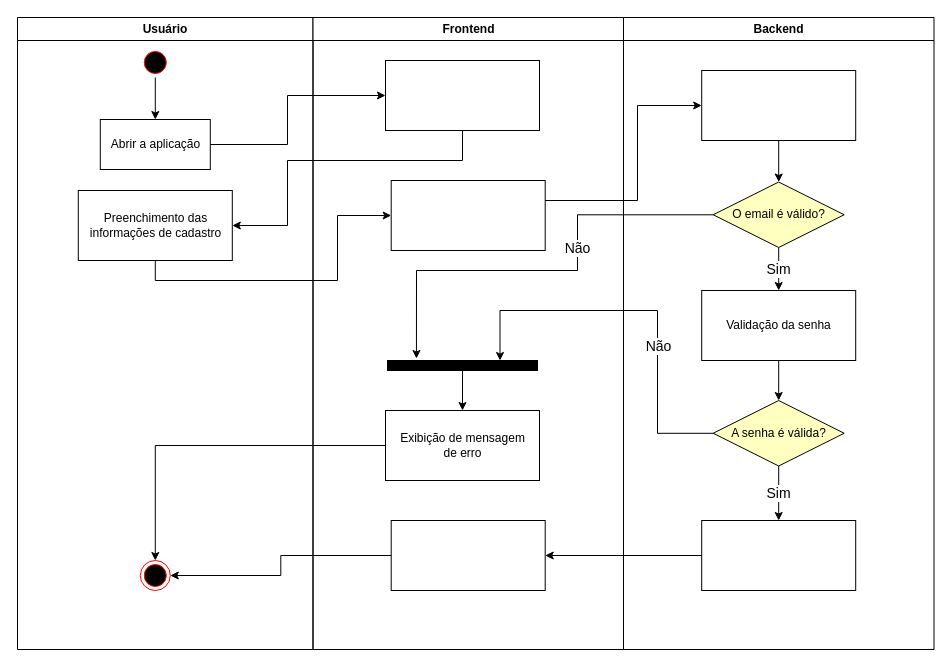
Some shapes in this 952 by 667 pixel diagram are drawn without their labels. The centre of each missing label's shape, as x and y in pixels:
"Aplicativo realiza login do novo usuário" belongs at [467,555].
"Envio de requisição com dados ao Backend" belongs at [467,215].
"Exibição de formulário de cadastro de usuário" belongs at [462,95].
"O usuário é salvo no banco de dados" belongs at [778,555].
"Validação do email" belongs at [778,105].
